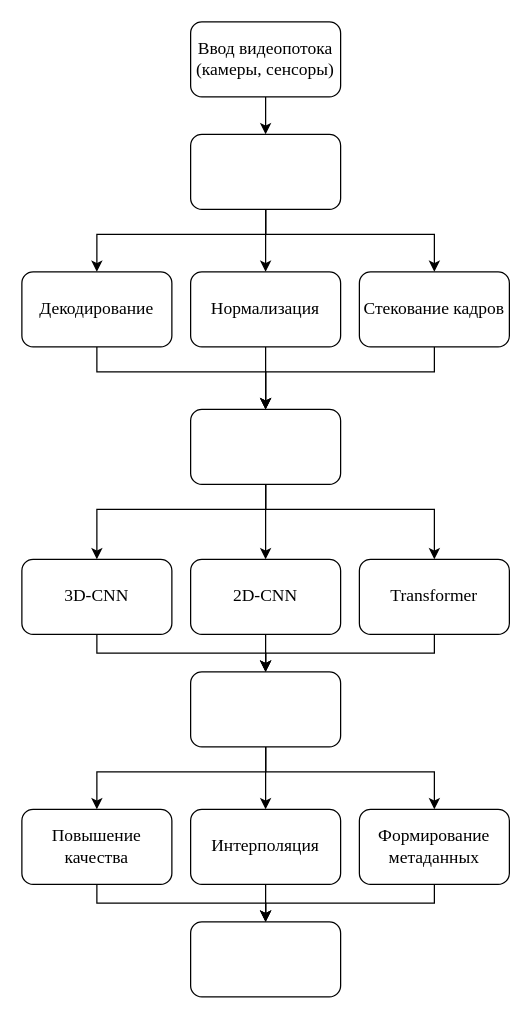
The diagram is 531 pixels wide and 1019 high, and some of its shapes have lost their labels. Here are the shapes that lost their labels. From the top down, the centre of each, then its label:
At point 265,171: "Предобработка кадров".
At point 265,446: "Нейросетевой анализ".
At point 265,709: "Постобработка".
At point 265,959: "Вывод данных".
